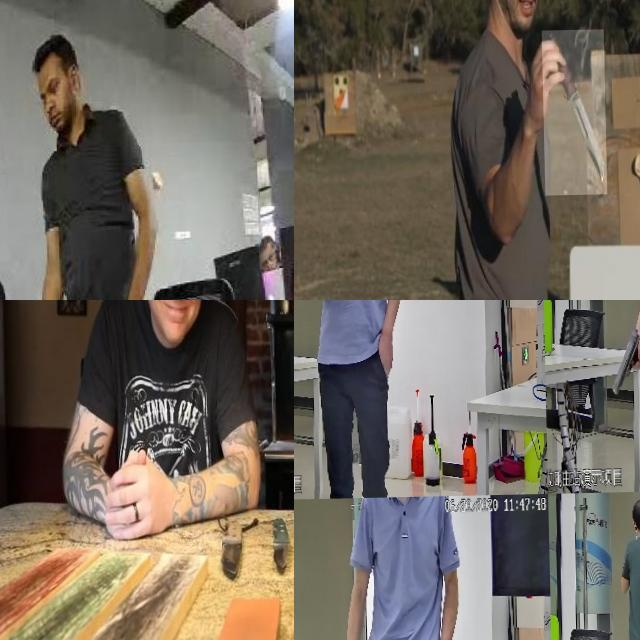-: (541, 31, 606, 197)
gun-knife-thesis - v11 Yolov5 augmented: (602, 329, 640, 399), (323, 300, 339, 328)
